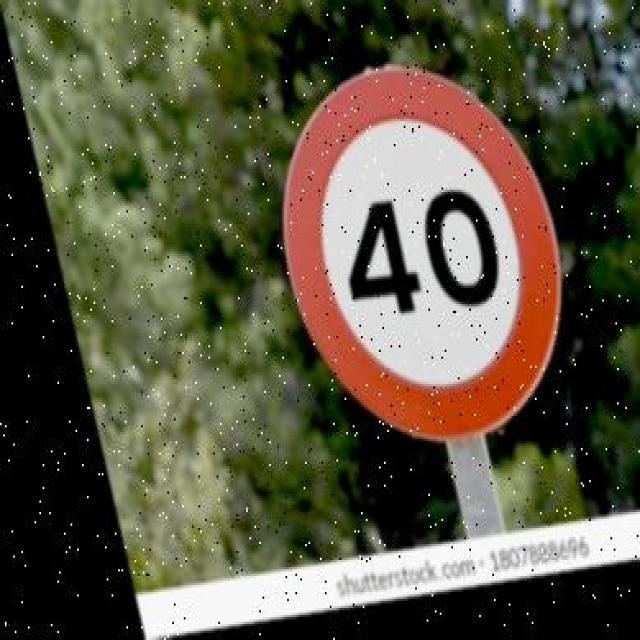speed limit 40: (284, 69, 561, 439)
